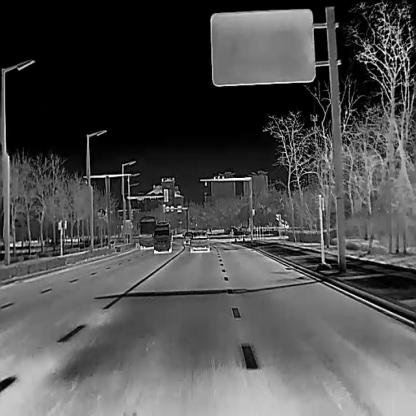bus: (138, 214, 154, 248)
car: (154, 220, 170, 250), (188, 228, 208, 251), (182, 229, 192, 244)
